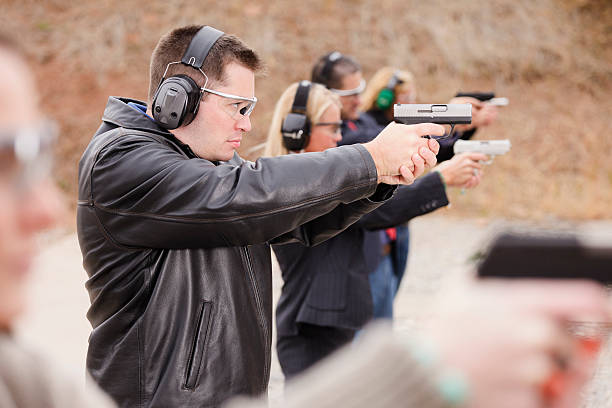gun: (476, 231, 612, 290), (394, 103, 471, 140), (453, 140, 511, 165), (456, 92, 494, 101), (489, 97, 509, 105)
